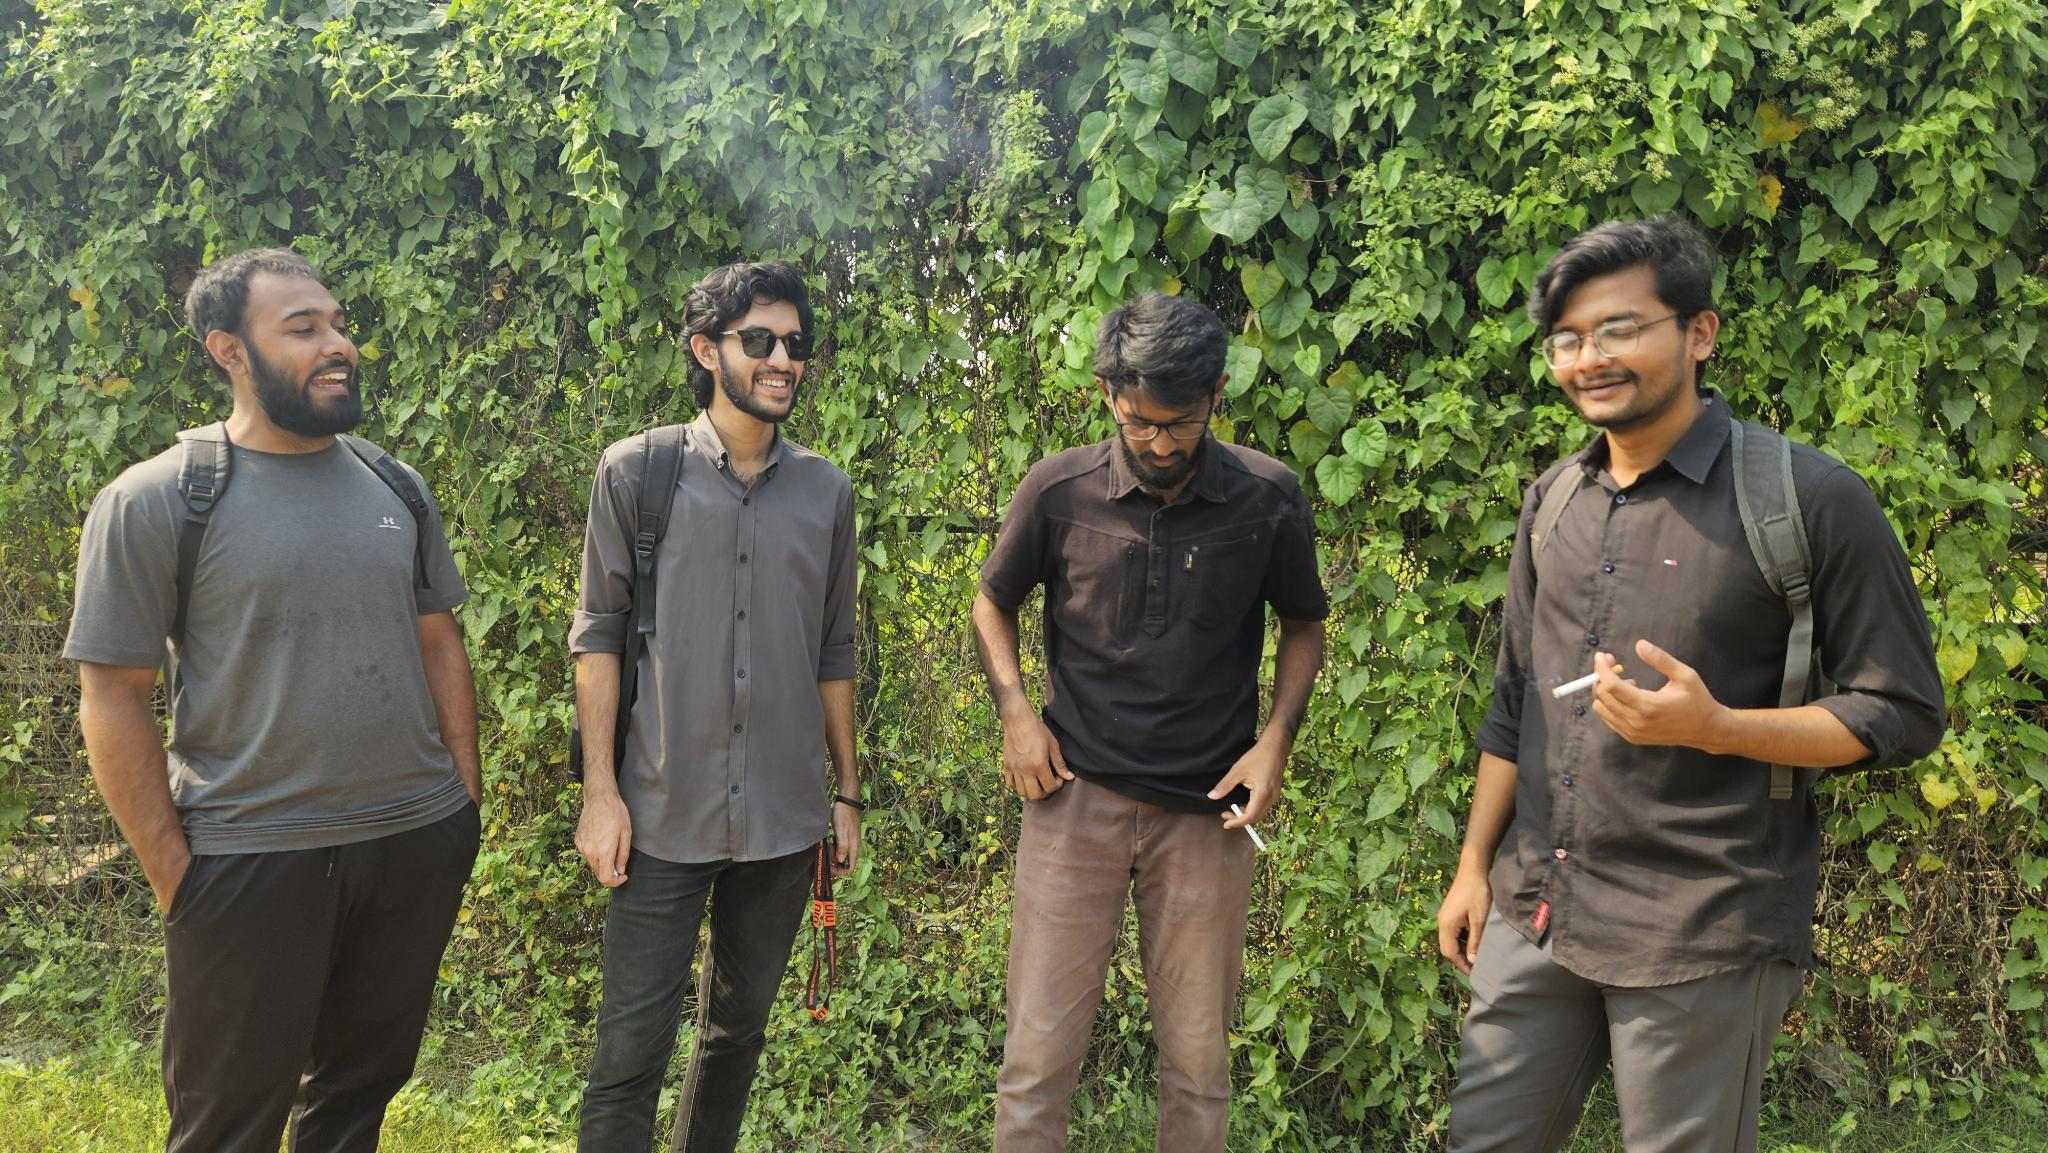cigarette: (1550, 662, 1626, 702), (1229, 803, 1267, 854)
nonSmoker: (60, 247, 484, 1153), (570, 260, 866, 1153)
smoker: (1436, 222, 1948, 1153), (972, 294, 1331, 1153)
